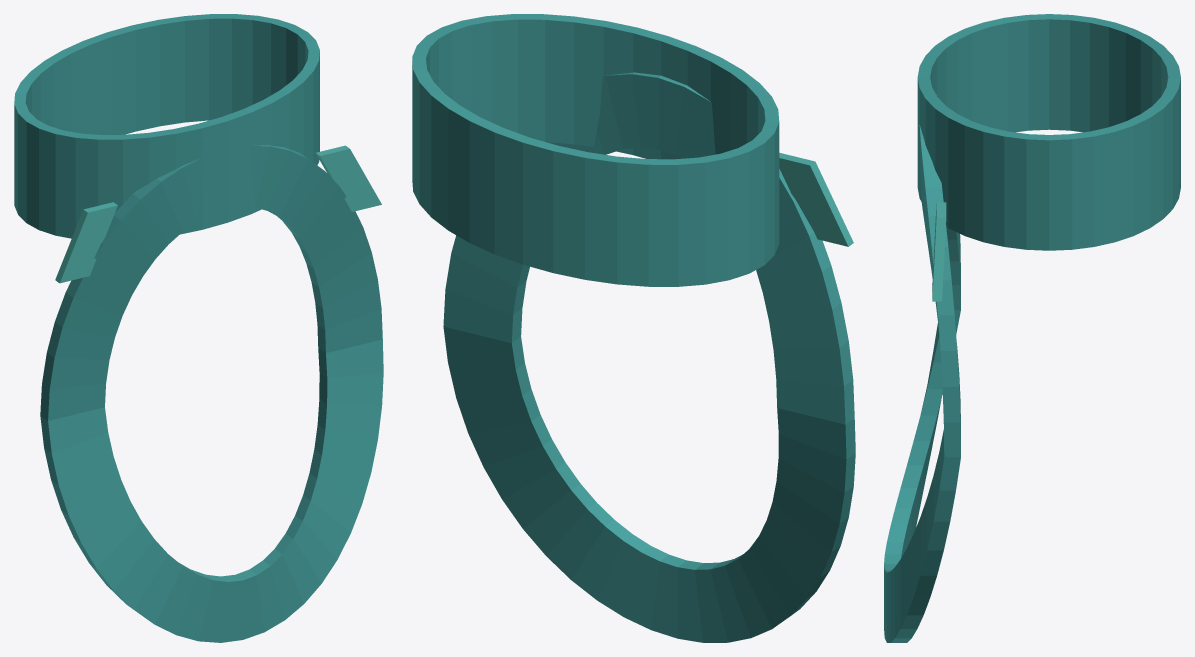
Rendered from scarf_infinity.glb.
3 views of the same model, side by side, from view 1: azimuth 30°, elevation 25°; view 2: azimuth 150°, elevation 25°; view 3: azimuth 270°, elevation 25° (orthographic). The views are drawn at different scales.
Parts seen in each view (by area): view 1: InfinityScarf_Continuous_Hanging_Loop, InfinityScarf_Upper_Wrap, InfinityScarf_Left_Fold, InfinityScarf_Right_Fold; view 2: InfinityScarf_Continuous_Hanging_Loop, InfinityScarf_Upper_Wrap, InfinityScarf_Left_Fold; view 3: InfinityScarf_Upper_Wrap, InfinityScarf_Continuous_Hanging_Loop, InfinityScarf_Right_Fold.
Part boxes in pixels (x1,y1,x2,y2): InfinityScarf_Continuous_Hanging_Loop: (40, 145, 383, 642); InfinityScarf_Upper_Wrap: (14, 14, 319, 238); InfinityScarf_Left_Fold: (55, 202, 117, 283); InfinityScarf_Right_Fold: (316, 145, 381, 211); InfinityScarf_Continuous_Hanging_Loop: (443, 72, 855, 642); InfinityScarf_Upper_Wrap: (412, 14, 779, 286); InfinityScarf_Left_Fold: (779, 152, 853, 246); InfinityScarf_Upper_Wrap: (917, 14, 1180, 250); InfinityScarf_Continuous_Hanging_Loop: (884, 94, 960, 642); InfinityScarf_Right_Fold: (932, 202, 946, 301).
Bounding box in the file's own units: 0.3 × 0.4435 × 0.212.
